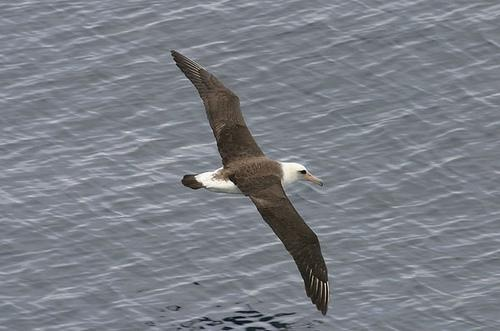bird: (163, 48, 331, 315)
